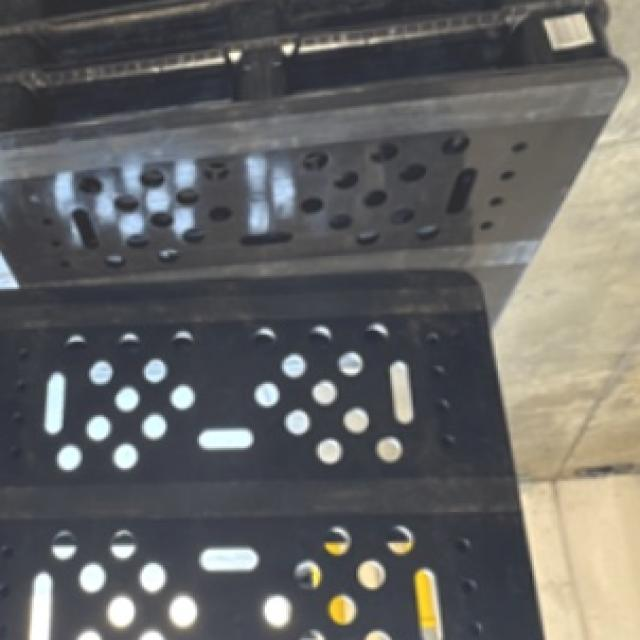igps: (0, 264, 629, 638), (0, 0, 634, 335)
